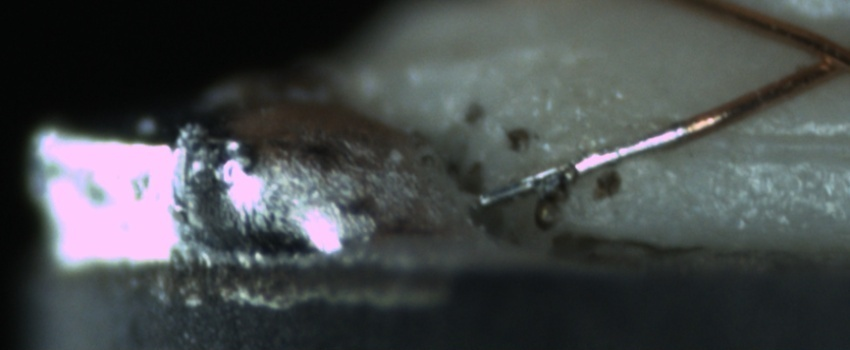CL: (793, 29, 850, 85)
DL: (687, 110, 849, 178)
TS: (476, 120, 688, 208)
TTCW: (471, 105, 728, 210)
